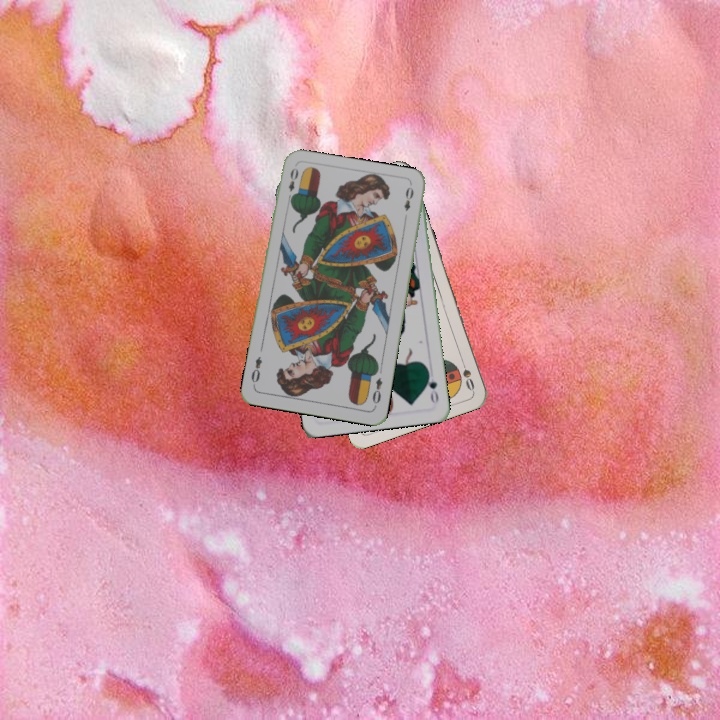EO: (284, 164, 301, 204), (368, 373, 385, 409)
GO: (422, 366, 441, 406)
SO: (457, 354, 477, 394)
